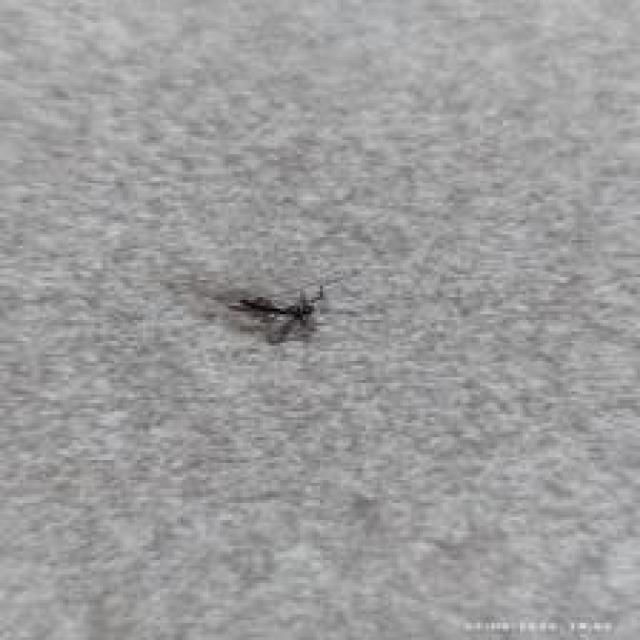Aedes albopictus: (227, 283, 327, 326)
